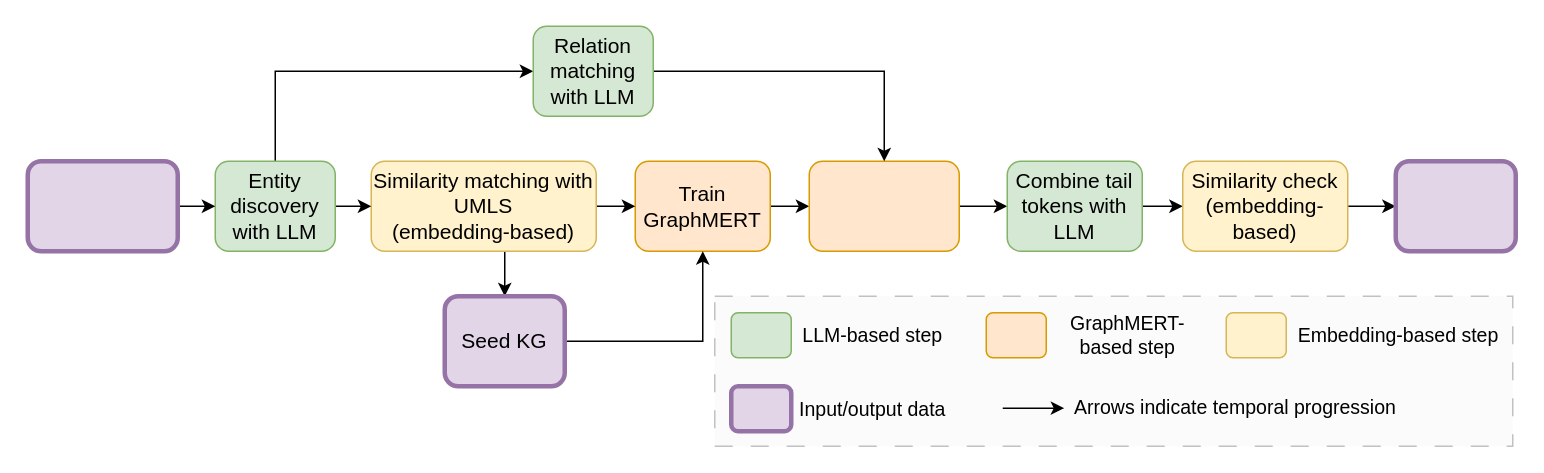
This 1544x473 diagram has some shape labels left out. The shapes that lost their labels are listed below. From the top down, each one's box as (x1, y1, x2, y2) in pixels, then its label:
(25, 158, 179, 253): Train dataset: high-qulaity texts
(808, 160, 959, 251): Predict tails with GraphMERT
(1393, 158, 1517, 253): Expanded KG
